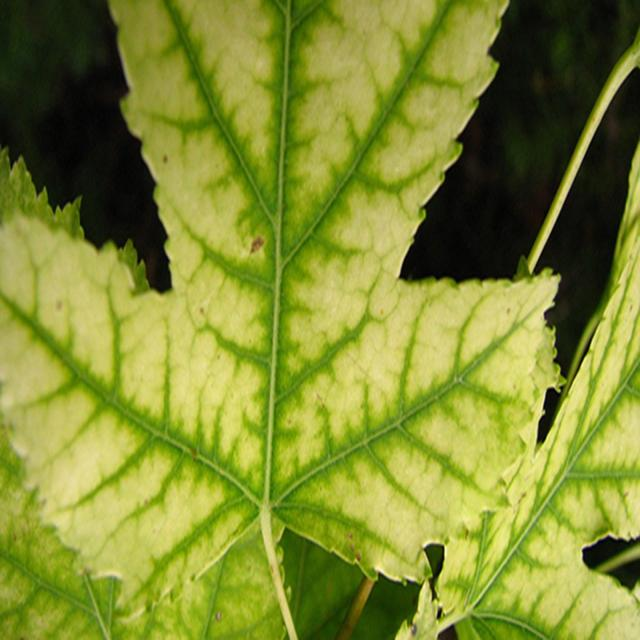Chlorosis: (7, 5, 640, 640)
